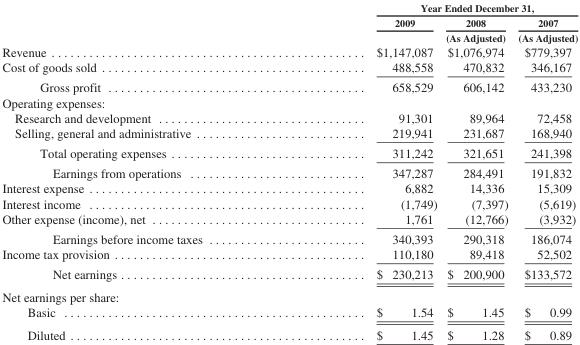table: (1, 1, 577, 341)
table column: (1, 1, 288, 341), (288, 1, 440, 341), (440, 1, 512, 341), (512, 1, 577, 341)
table column header: (1, 1, 577, 43)
table projected row header: (1, 285, 577, 304), (1, 94, 577, 109)
table row: (1, 14, 577, 43), (1, 263, 577, 285), (1, 142, 577, 162), (1, 285, 577, 304), (1, 304, 577, 323), (1, 76, 577, 94), (1, 124, 577, 142), (1, 162, 577, 180), (1, 210, 577, 228), (1, 228, 577, 246), (1, 323, 577, 341), (1, 59, 577, 76), (1, 246, 577, 263), (1, 43, 577, 59), (1, 94, 577, 109), (1, 109, 577, 124), (1, 180, 577, 195), (1, 195, 577, 210), (1, 1, 577, 14)
table spanning cell: (288, 1, 577, 14)
